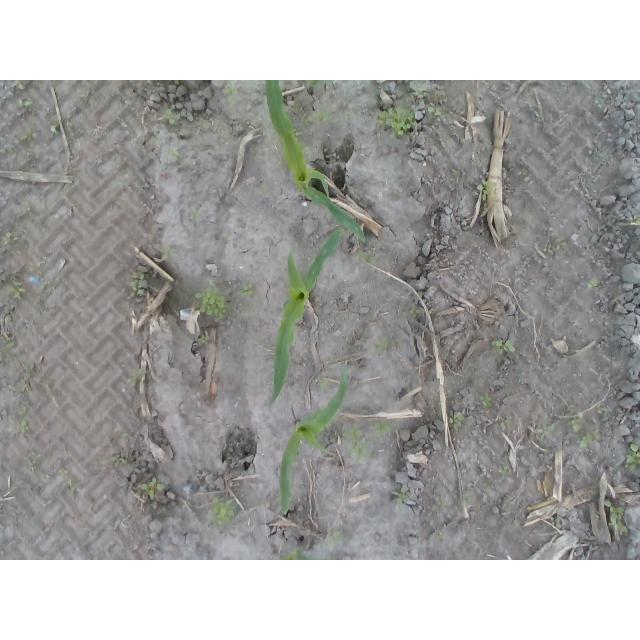Maize: (264, 80, 369, 241), (273, 230, 344, 403), (279, 372, 350, 517), (279, 544, 319, 561)
Weeds: (342, 423, 379, 466), (192, 280, 230, 320), (376, 105, 416, 139), (604, 499, 629, 537), (209, 496, 236, 526), (305, 107, 338, 130), (127, 268, 147, 297), (477, 178, 495, 210), (51, 112, 74, 137), (141, 476, 166, 498), (191, 114, 225, 130), (624, 441, 640, 471), (372, 421, 392, 444), (356, 247, 379, 267), (565, 404, 581, 432), (7, 279, 27, 301), (491, 338, 518, 354), (448, 410, 464, 434), (536, 421, 560, 437), (391, 485, 409, 506), (159, 106, 177, 127), (579, 432, 601, 449), (427, 105, 450, 120), (327, 527, 346, 545), (127, 369, 145, 386), (373, 336, 391, 353), (26, 256, 45, 272), (239, 284, 256, 301), (159, 244, 177, 260), (480, 392, 497, 408), (223, 83, 241, 97), (0, 231, 18, 245), (20, 127, 38, 141), (578, 279, 602, 289), (554, 235, 569, 250), (16, 419, 32, 433), (499, 415, 513, 431), (16, 97, 32, 111), (148, 128, 161, 144), (1, 340, 17, 353), (67, 479, 81, 493), (168, 147, 182, 161), (414, 80, 426, 96), (256, 184, 272, 196), (15, 380, 31, 392), (1, 143, 17, 155), (112, 454, 129, 465), (594, 95, 604, 113), (21, 362, 34, 375), (497, 464, 511, 476), (409, 305, 421, 318), (542, 243, 554, 256), (533, 105, 544, 119), (319, 377, 330, 391), (292, 127, 303, 140), (304, 143, 312, 160), (16, 407, 28, 418), (21, 200, 32, 212), (436, 499, 449, 509), (516, 167, 528, 177), (191, 211, 201, 222), (199, 335, 209, 345), (30, 463, 40, 473), (597, 405, 607, 415), (223, 233, 234, 242), (344, 112, 354, 121), (272, 144, 281, 153), (47, 280, 56, 289), (63, 167, 73, 175), (59, 467, 66, 478), (16, 80, 24, 89), (384, 93, 396, 99), (119, 432, 129, 439), (630, 219, 640, 226), (463, 496, 469, 504), (332, 428, 339, 434)
